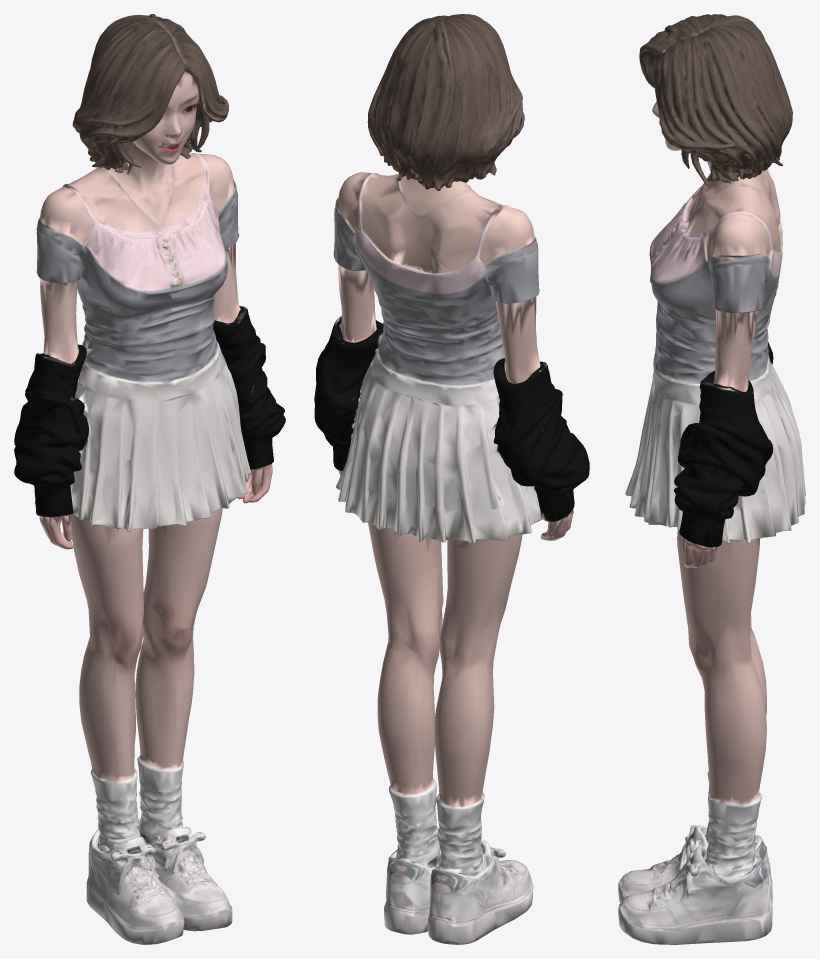
The model's file is jangkung.glb.
3 views of the same model, side by side, from view 1: azimuth 30°, elevation 25°; view 2: azimuth 150°, elevation 25°; view 3: azimuth 270°, elevation 25° (orthographic).
Bounding box in the file's own units: 0.5905 × 1.9 × 0.3576.
1 material, 1 textured.
